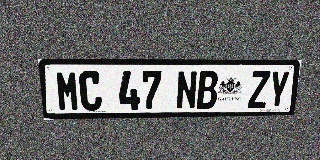4: (118, 71, 140, 110)
7: (141, 71, 162, 110)
B: (196, 71, 219, 109)
C: (79, 71, 102, 111)
M: (55, 71, 80, 111)
N: (176, 71, 198, 109)
Y: (267, 71, 290, 108)
Z: (248, 71, 271, 108)
